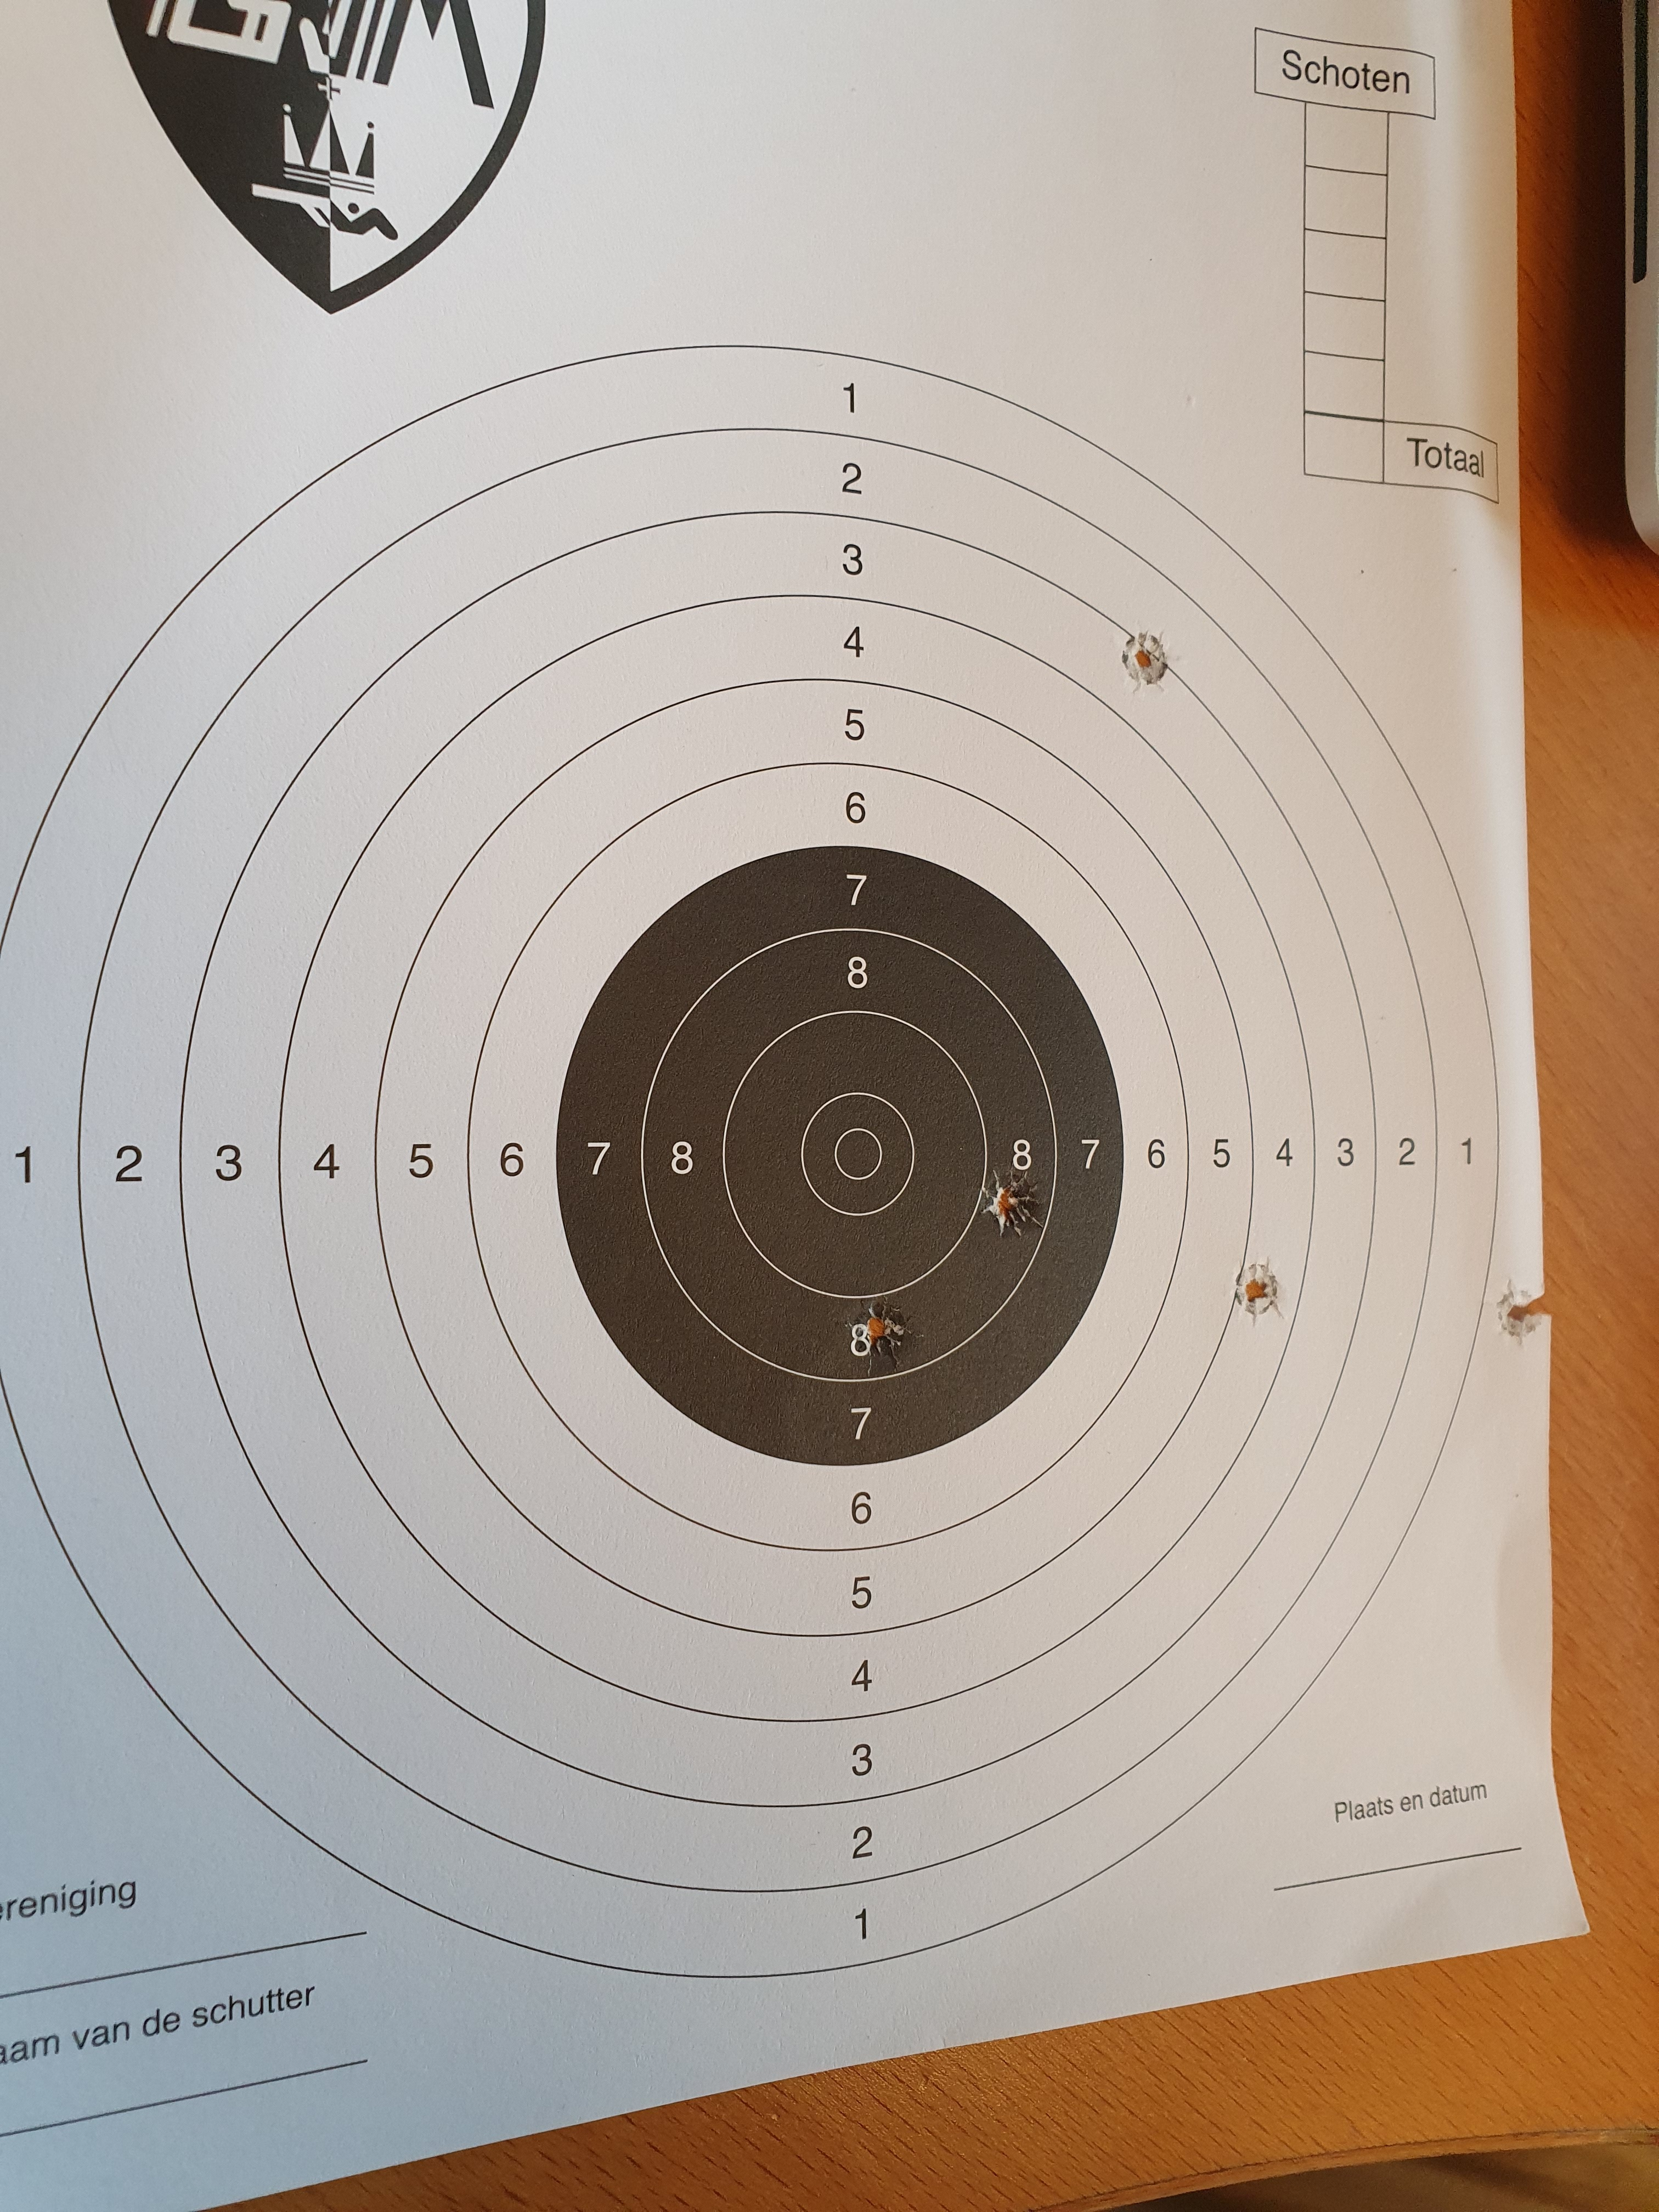center: (556, 845, 1124, 1465)
out: (0, 347, 1499, 1975)
shot: (845, 1294, 924, 1376), (978, 1169, 1046, 1238), (1230, 1254, 1288, 1327), (1117, 618, 1171, 693), (1490, 1277, 1544, 1346)
target: (800, 1090, 915, 1216)
